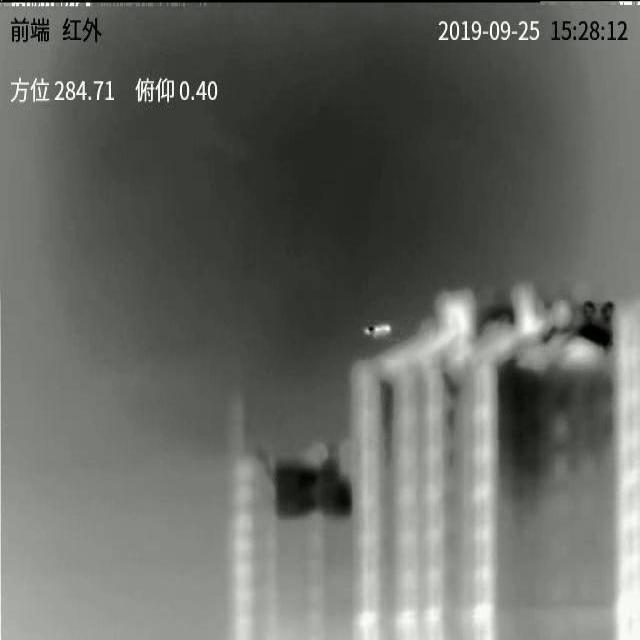drone: (364, 323, 392, 337)
